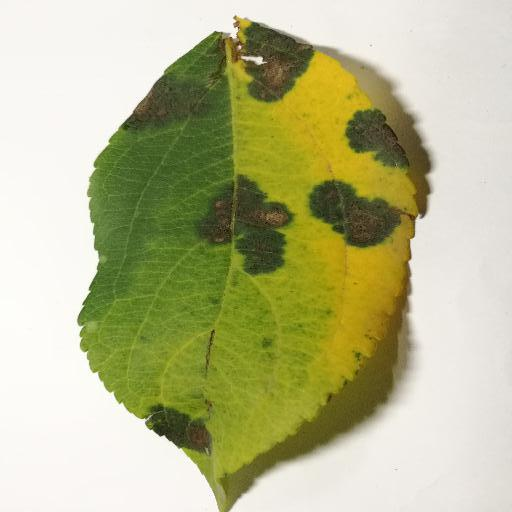Brown_Spot: (188, 173, 287, 236), (223, 28, 313, 97), (310, 182, 399, 243), (349, 107, 423, 172), (120, 81, 203, 128), (137, 404, 220, 451)
